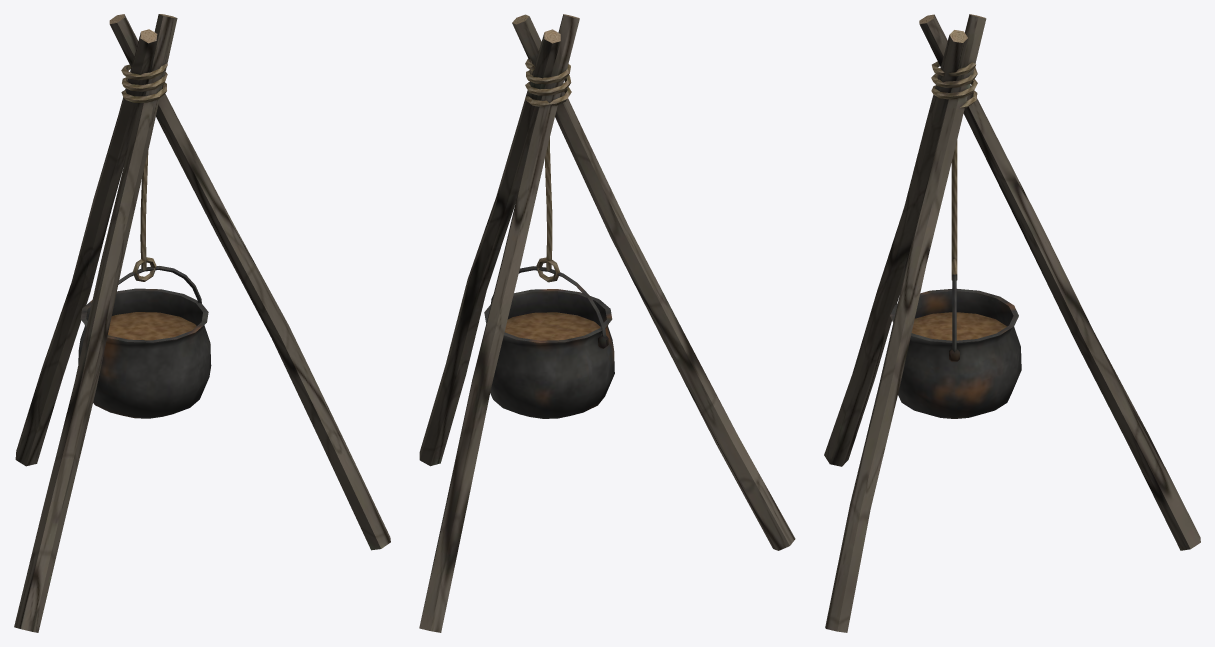
The model's file is fm_cooking_pot_tripod.glb.
The picture shows the model from 3 angles, left to right: view 1: azimuth 30°, elevation 25°; view 2: azimuth 150°, elevation 25°; view 3: azimuth 270°, elevation 25°; orthographic projection.
Parts seen in each view (by area): view 1: fm_cooking_pot_tripod, fm_cooking_pot; view 2: fm_cooking_pot_tripod, fm_cooking_pot; view 3: fm_cooking_pot_tripod, fm_cooking_pot.
Boxes of the visible parts, x1,y1,x2,y2 form: fm_cooking_pot_tripod: [14, 14, 390, 632]; fm_cooking_pot: [78, 266, 211, 418]; fm_cooking_pot_tripod: [419, 14, 795, 632]; fm_cooking_pot: [484, 266, 614, 418]; fm_cooking_pot_tripod: [824, 14, 1200, 632]; fm_cooking_pot: [890, 274, 1021, 418].
Bounding box in the file's own units: 1.17 × 1.58 × 1.02.
2 materials, 2 textured.
